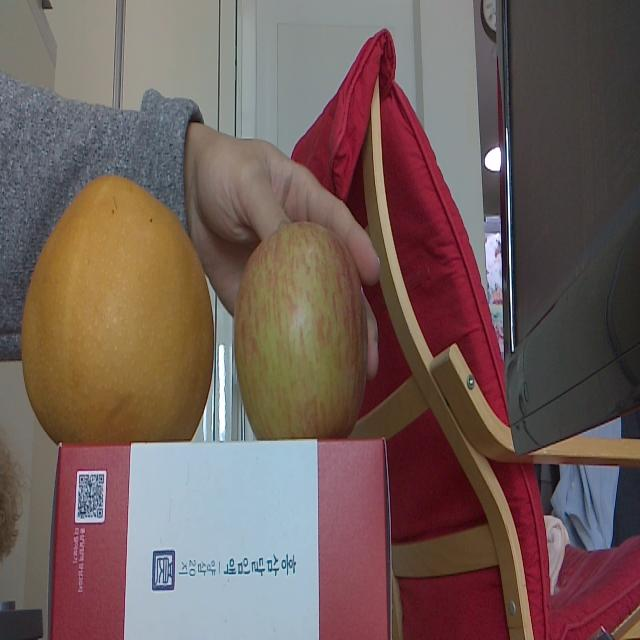apple: (234, 220, 370, 442)
pear: (20, 172, 214, 440)
